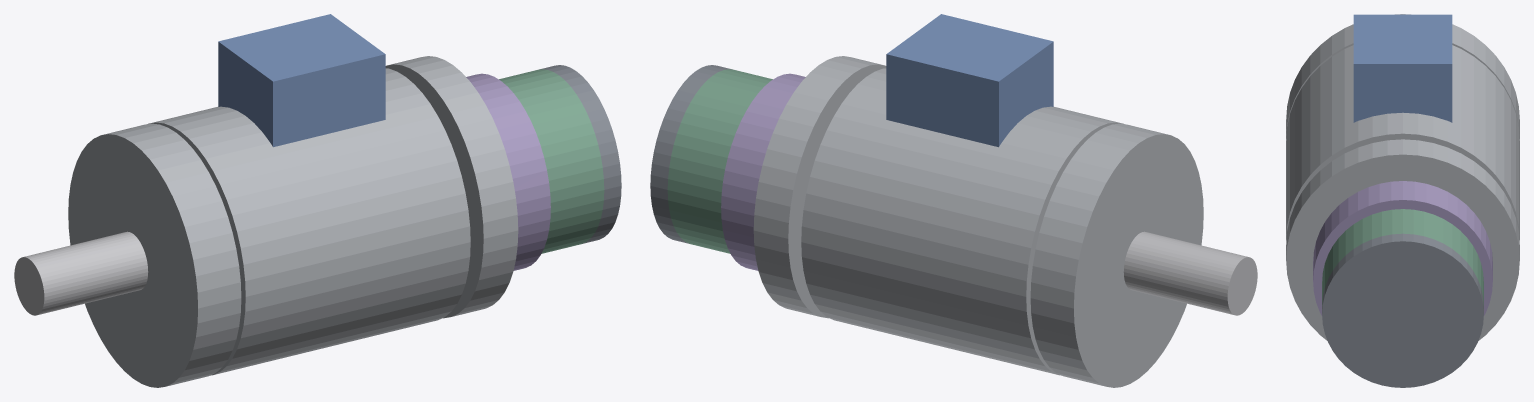
File: servo.glb
3 renders of one model, left to right at view 1: azimuth 30°, elevation 25°; view 2: azimuth 150°, elevation 25°; view 3: azimuth 270°, elevation 25°, orthographic. The views are drawn at different scales.
Visible parts, largest first — view 1: 机壳, 前端盖（法兰）, 接线盒（动力+编码器）, 后端盖, 编码器（17~23位）, 转轴, 电磁抱闸（断电制动）, 编码器后盖; view 2: 机壳, 前端盖（法兰）, 接线盒（动力+编码器）, 后端盖, 编码器（17~23位）, 转轴, 电磁抱闸（断电制动）, 编码器后盖; view 3: 编码器后盖, 机壳, 后端盖, 接线盒（动力+编码器）, 电磁抱闸（断电制动）, 编码器（17~23位）, 前端盖（法兰）.
Part boxes in pixels (bbox=[...]): 机壳: bbox=[148, 68, 470, 375]; 前端盖（法兰）: bbox=[68, 123, 241, 387]; 接线盒（动力+编码器）: bbox=[218, 14, 385, 147]; 后端盖: bbox=[385, 56, 518, 318]; 编码器（17~23位）: bbox=[499, 69, 604, 253]; 转轴: bbox=[14, 231, 148, 315]; 电磁抱闸（断电制动）: bbox=[466, 73, 550, 270]; 编码器后盖: bbox=[539, 65, 621, 243]; 机壳: bbox=[801, 68, 1123, 375]; 前端盖（法兰）: bbox=[1030, 123, 1203, 387]; 接线盒（动力+编码器）: bbox=[886, 14, 1053, 147]; 后端盖: bbox=[753, 56, 886, 318]; 编码器（17~23位）: bbox=[667, 69, 772, 253]; 转轴: bbox=[1123, 231, 1257, 315]; 电磁抱闸（断电制动）: bbox=[721, 73, 805, 270]; 编码器后盖: bbox=[650, 65, 732, 243]; 编码器后盖: bbox=[1322, 233, 1483, 387]; 机壳: bbox=[1286, 45, 1519, 239]; 后端盖: bbox=[1286, 139, 1519, 340]; 接线盒（动力+编码器）: bbox=[1353, 14, 1452, 122]; 电磁抱闸（断电制动）: bbox=[1313, 181, 1492, 316]; 编码器（17~23位）: bbox=[1322, 209, 1483, 305]; 前端盖（法兰）: bbox=[1286, 14, 1519, 139].
Size of the model in its own units: 0.1265 by 0.064 by 0.052.
